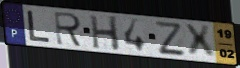4: (123, 18, 148, 53)
H: (88, 14, 122, 53)
L: (26, 9, 52, 44)
R: (53, 10, 85, 49)
X: (182, 23, 218, 60)
Z: (153, 19, 187, 56)
